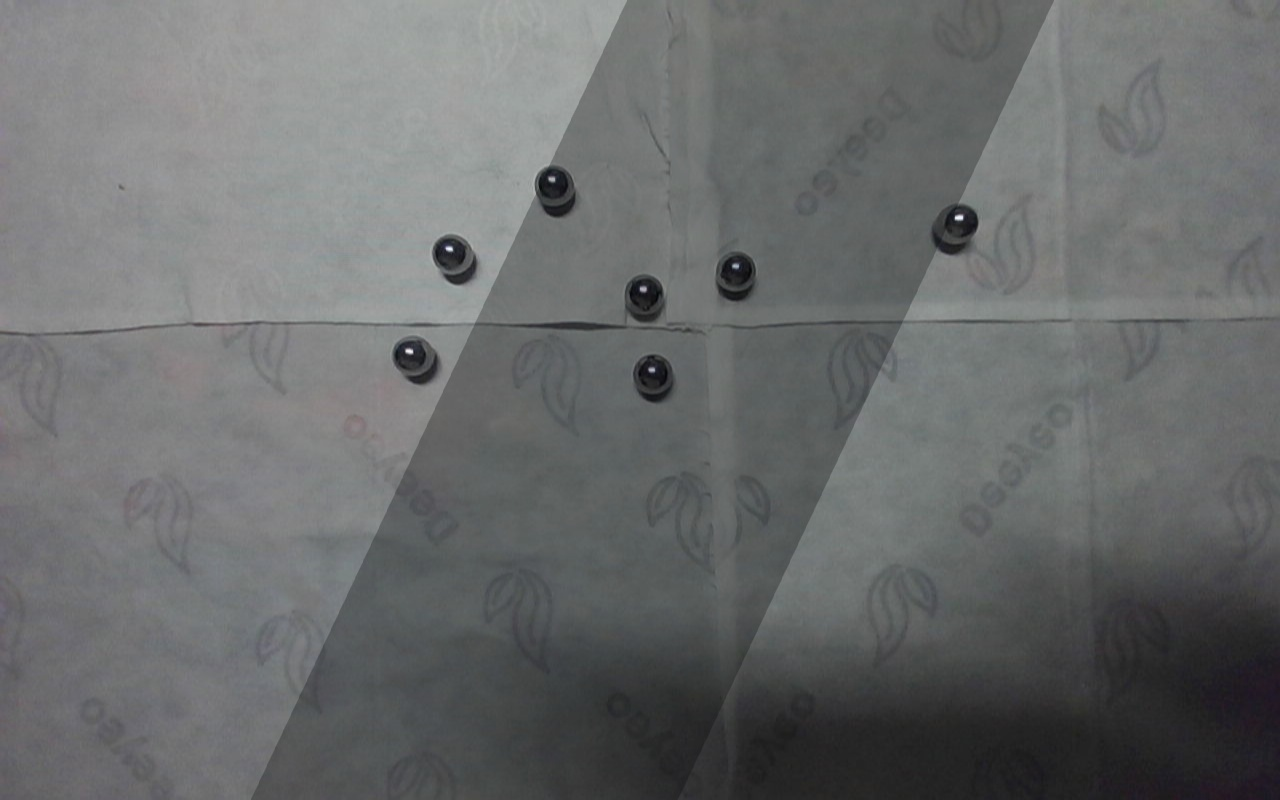ball: (931, 202, 983, 251), (532, 161, 581, 211), (390, 331, 438, 382), (430, 231, 479, 280), (621, 272, 669, 320), (714, 248, 759, 299), (632, 352, 674, 399)
